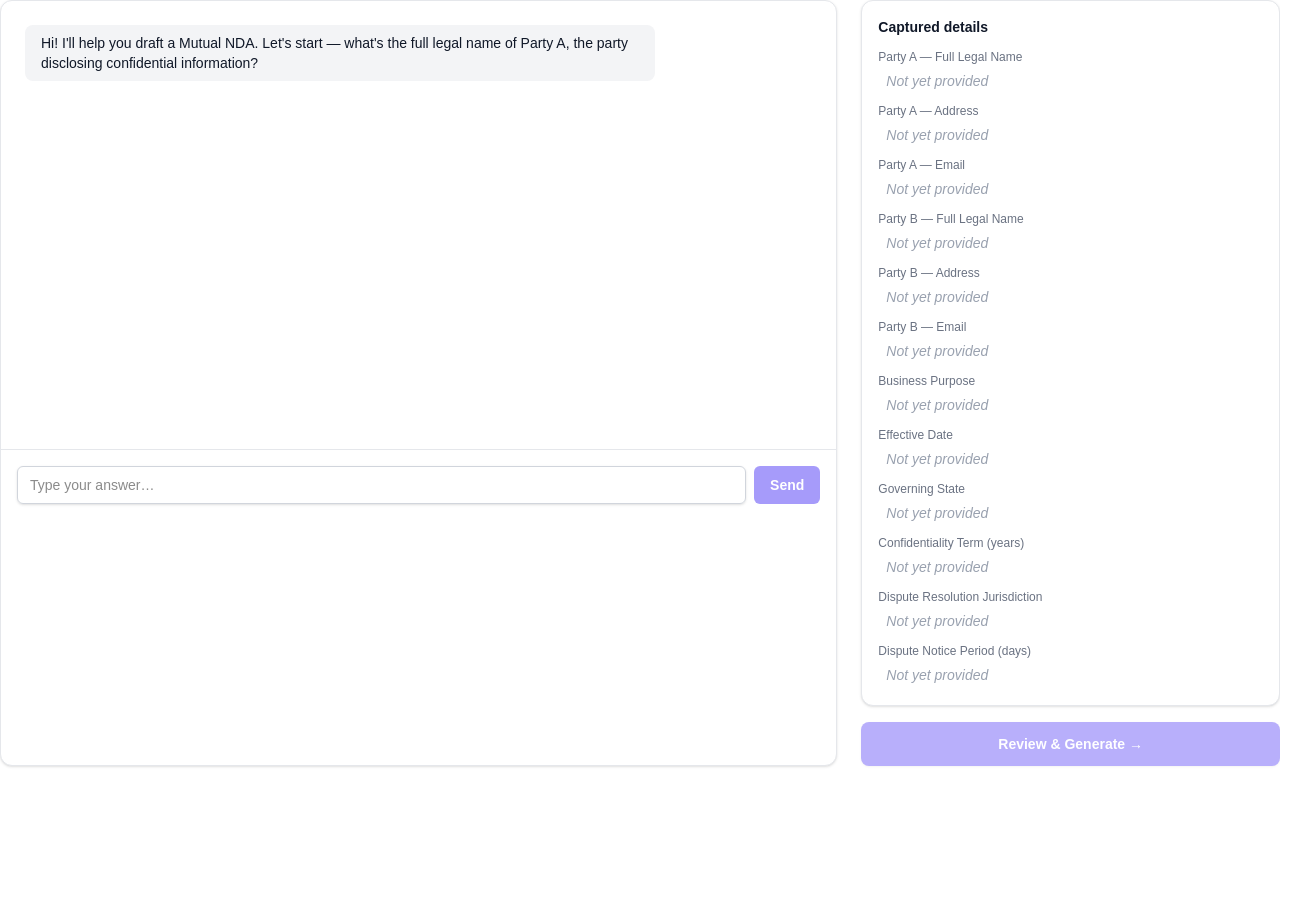
Scenario: NdaChat › allows editing a captured field directly in the sidebar
Type "Acme Corp." into the field named "Message".
click(382, 485); type("Acme Corp.")  # box x1=17 y1=466 x2=746 y2=504
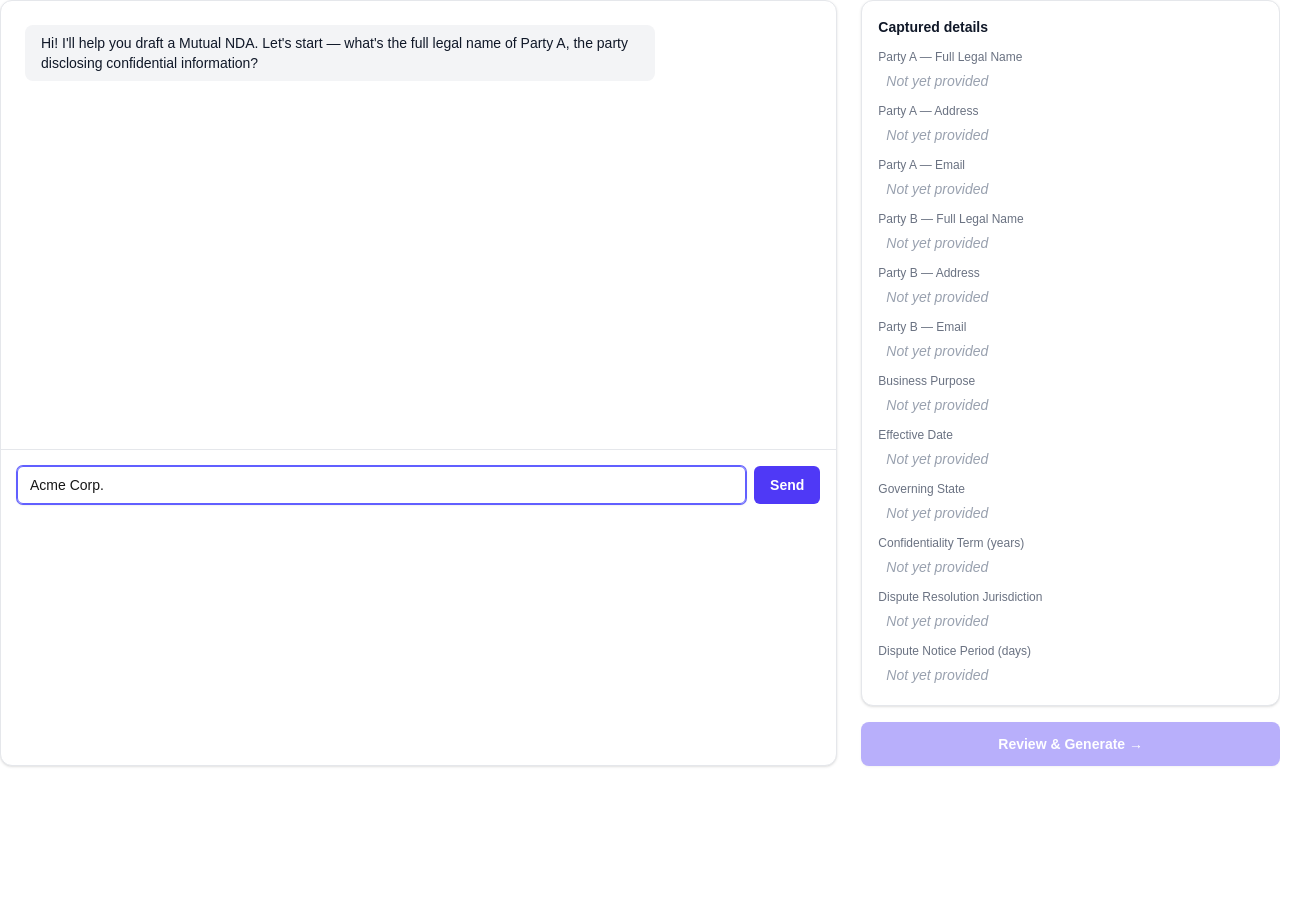
Click the button "Send".
click(787, 485)  # box x1=754 y1=466 x2=820 y2=504
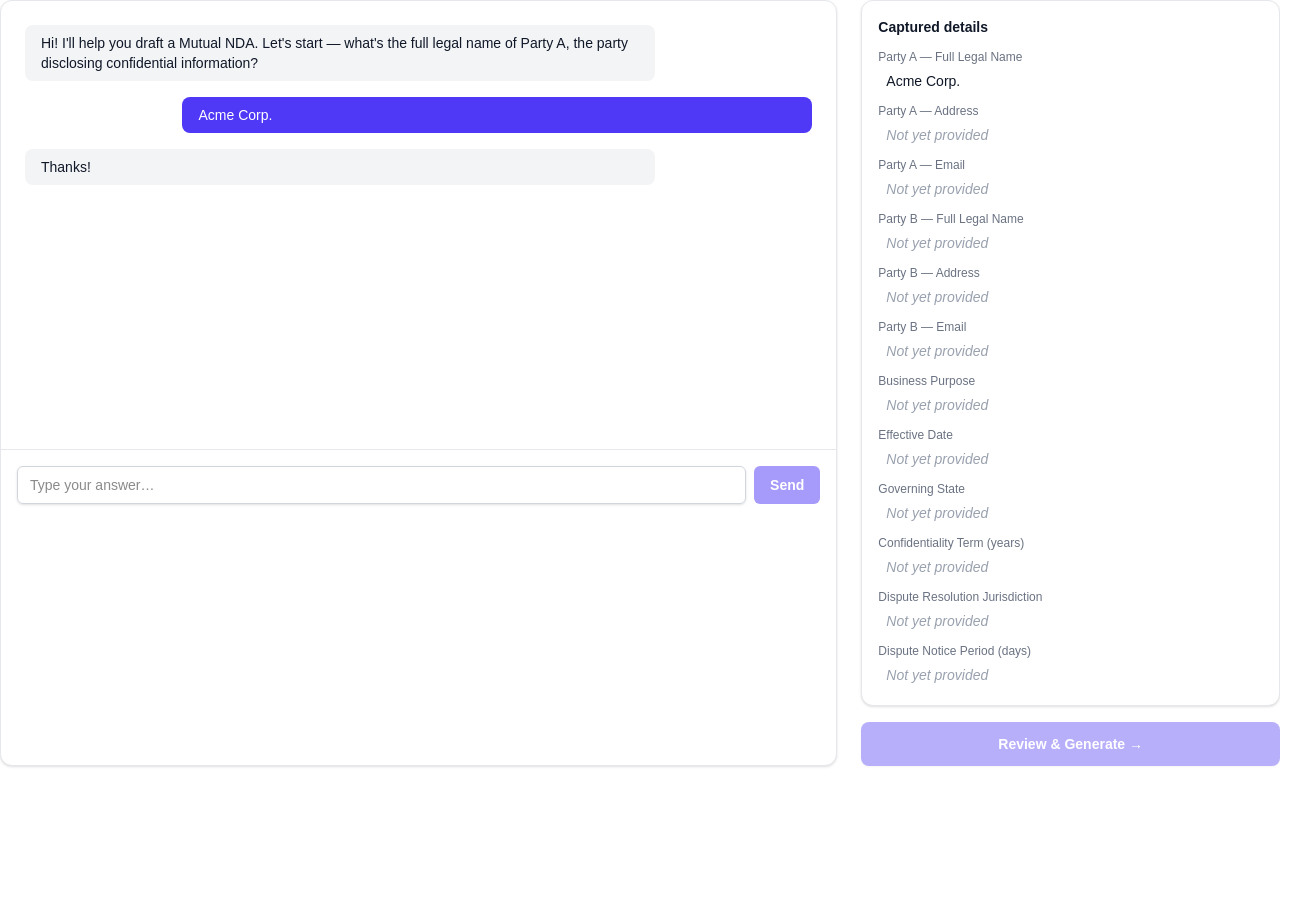
Result: the button "Acme Corp." is shown
Click the button "Acme Corp.".
click(923, 81)  # box x1=878 y1=67 x2=1263 y2=95
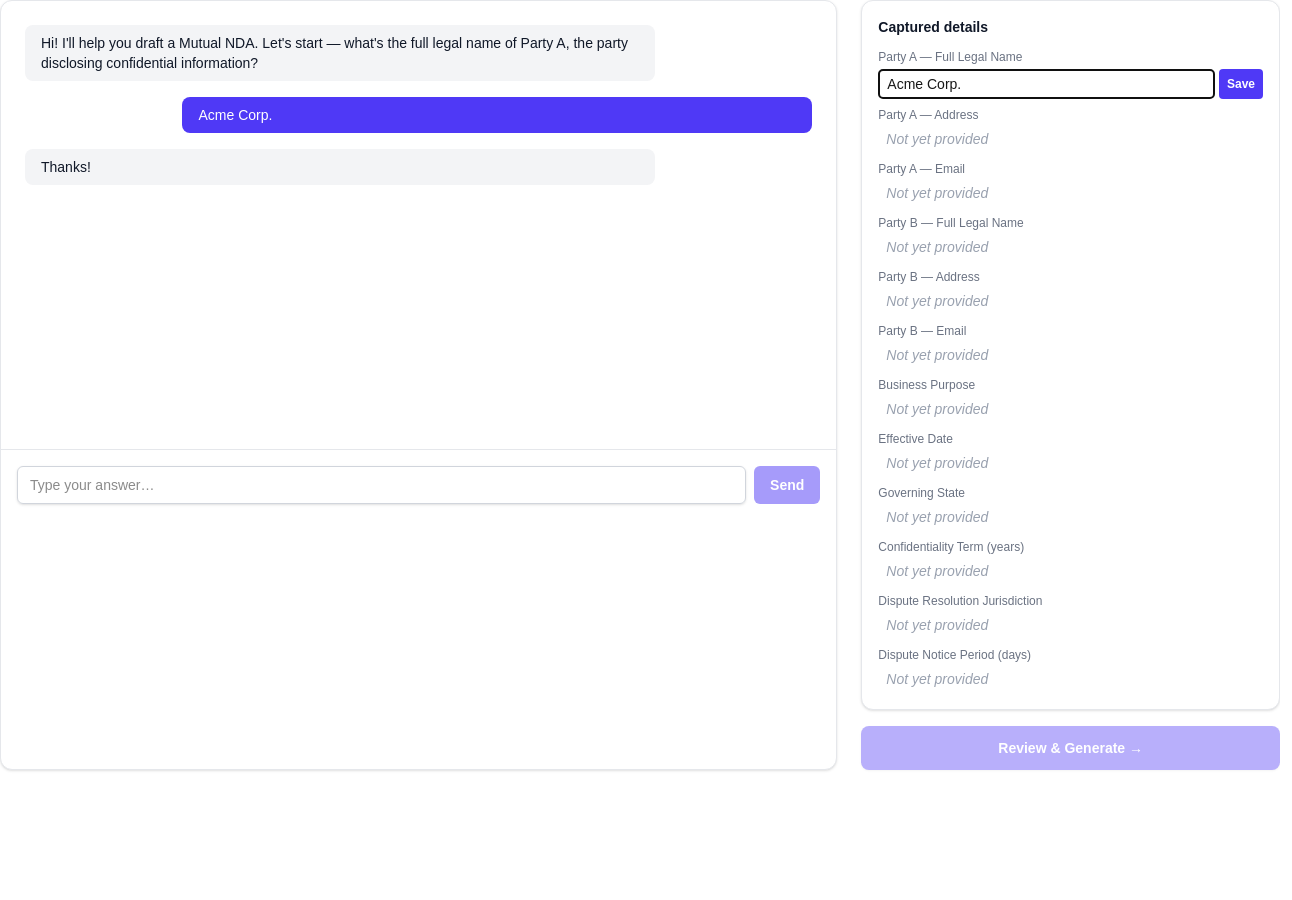
Replace the text in the field named "Party A — Full Legal Name" with "Acme Corporation" at (1047, 84), box x1=878 y1=69 x2=1215 y2=99
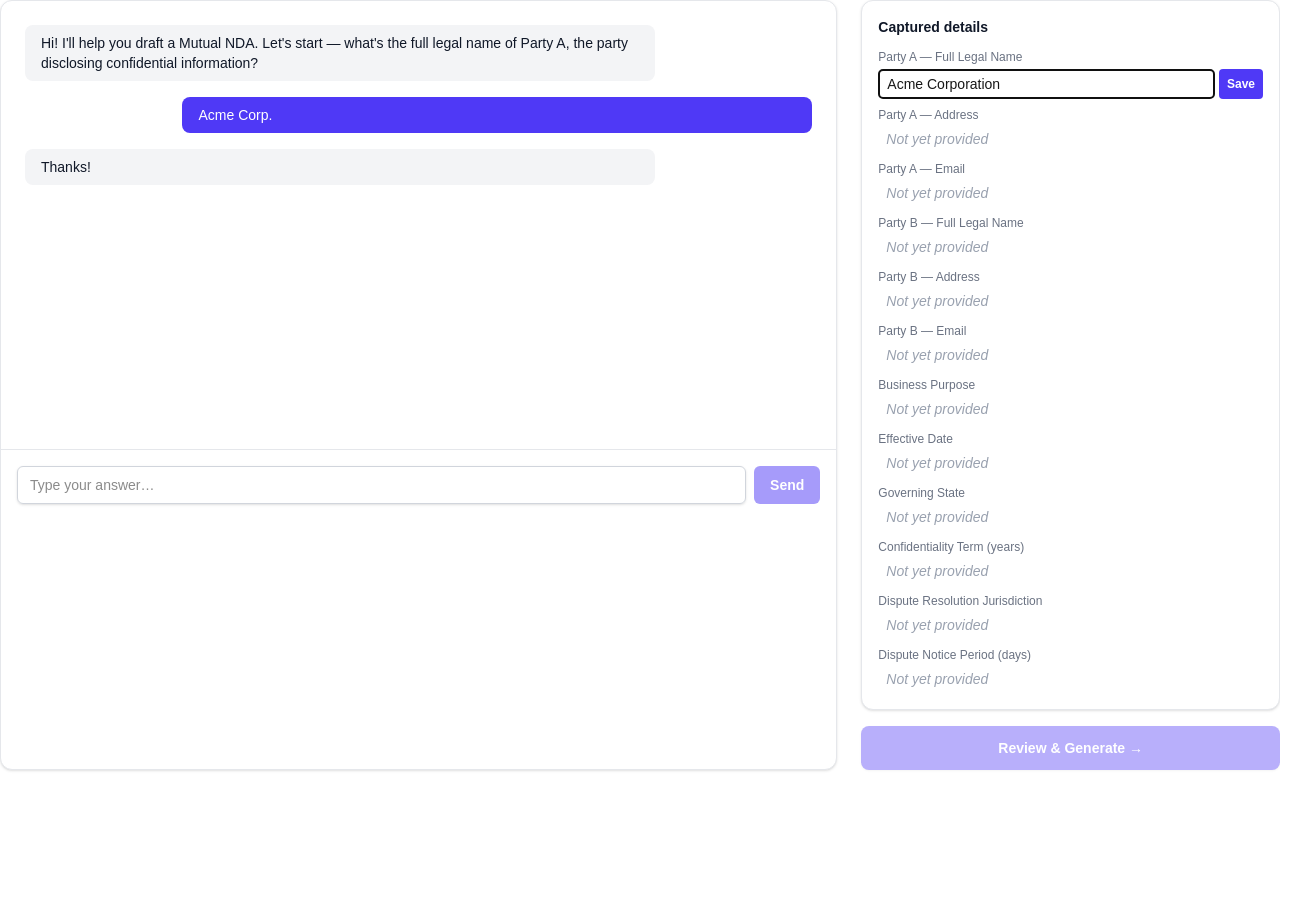
Click the button "Save".
click(1241, 84)  # box x1=1219 y1=69 x2=1263 y2=99
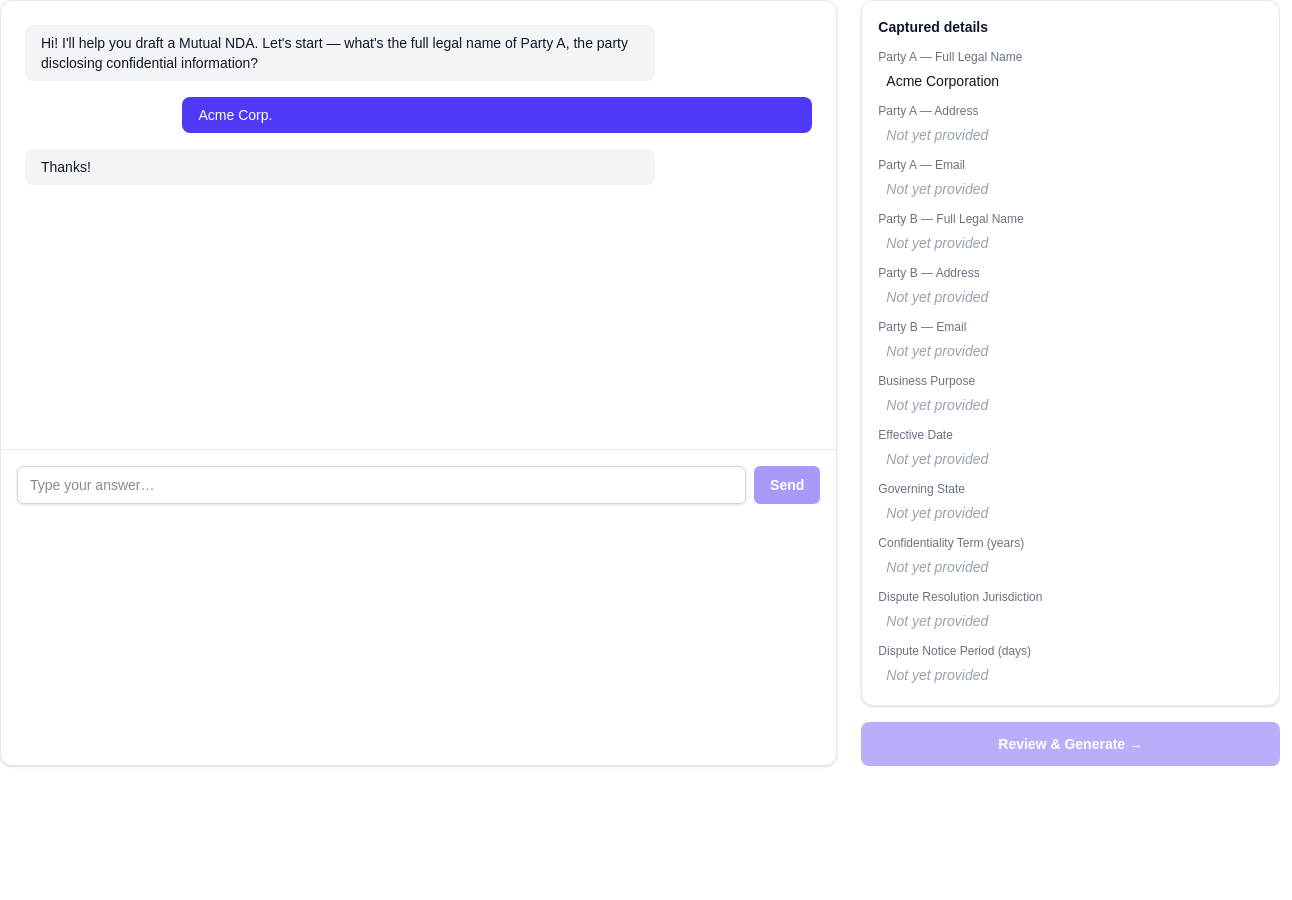
Result: the button "Acme Corporation" is shown at x1=878 y1=67 x2=1263 y2=95
